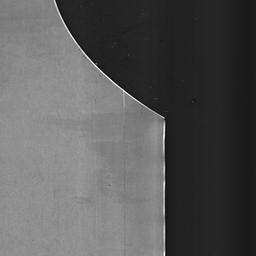Crescent gap: (57, 0, 164, 117)
